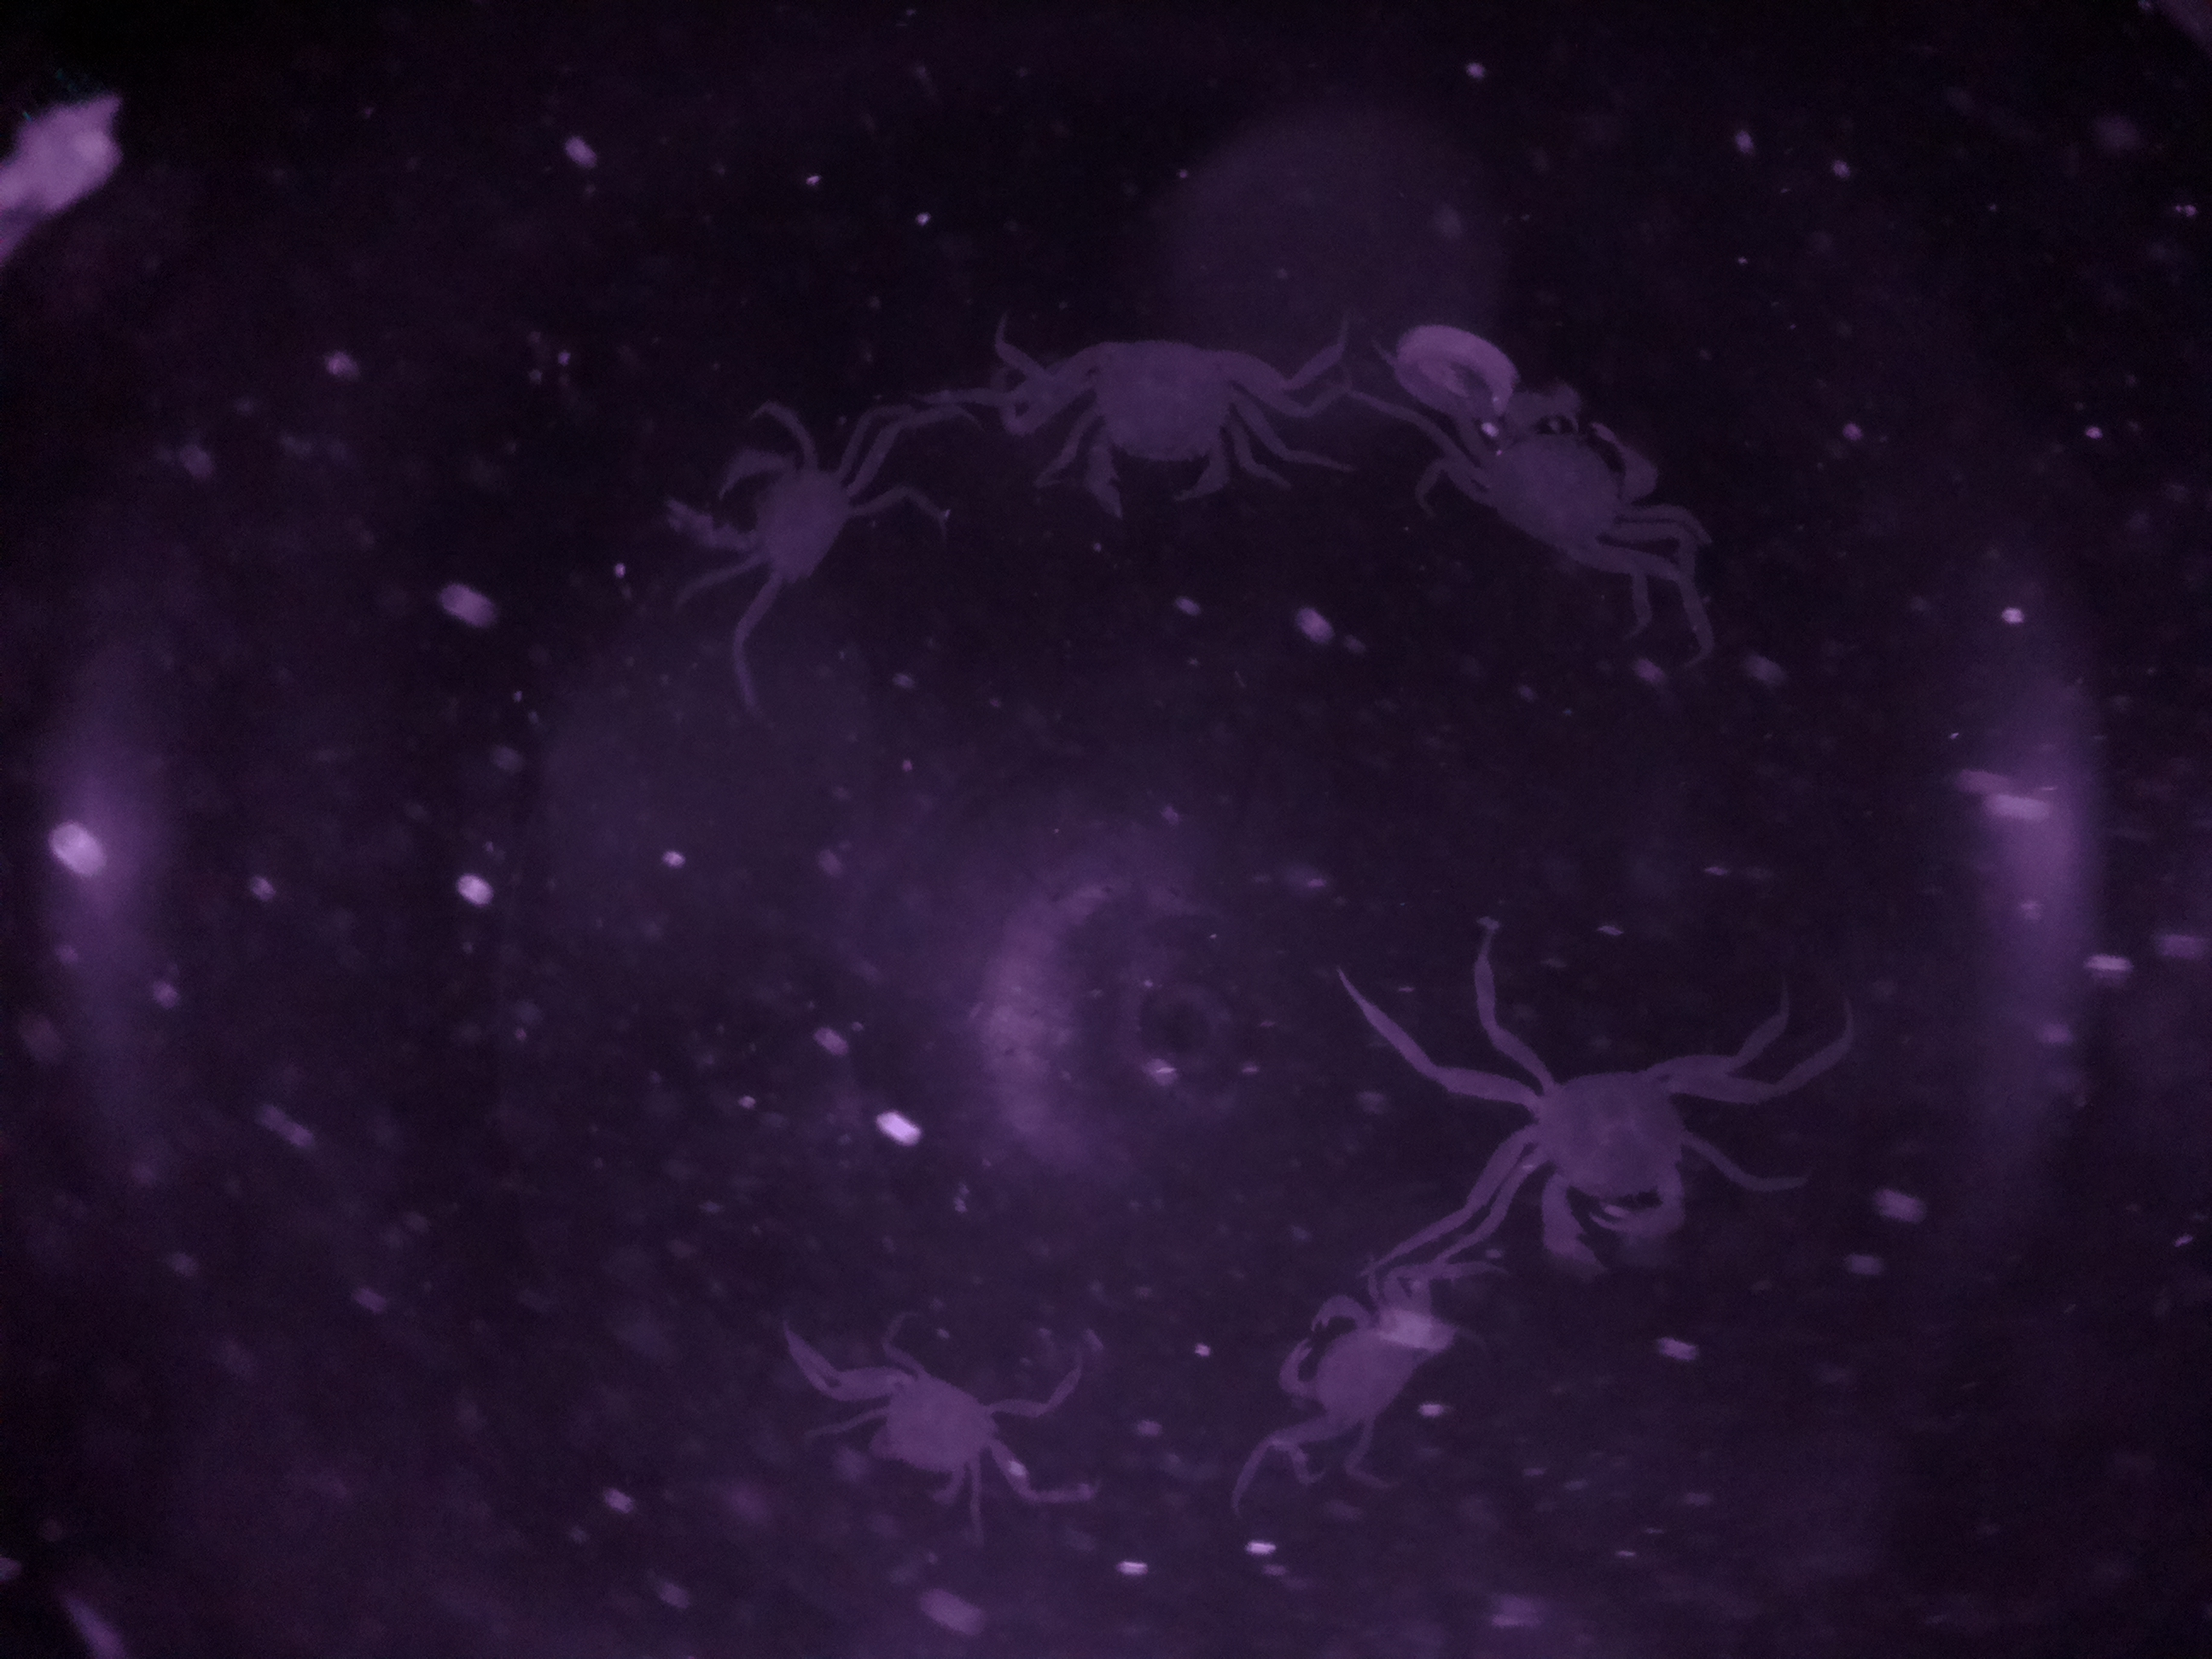Crab: (1360, 362, 1712, 622), (1465, 1044, 1750, 1305), (1022, 317, 1329, 551), (639, 416, 895, 633), (1254, 1265, 1470, 1469)
